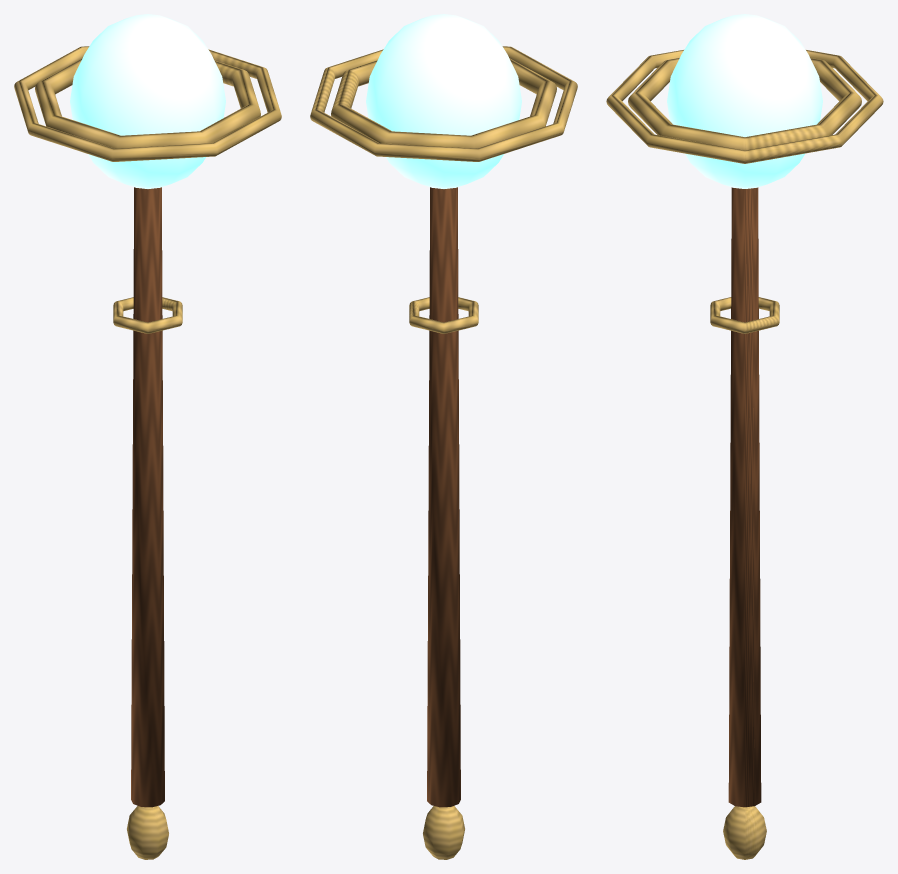
Rendered from weapon_staff.glb.
The picture shows the model from 3 angles, left to right: view 1: azimuth 30°, elevation 25°; view 2: azimuth 150°, elevation 25°; view 3: azimuth 270°, elevation 25°; orthographic projection.
Parts seen in each view (by area): view 1: StaffMesh; view 2: StaffMesh; view 3: StaffMesh.
Part boxes in pixels (x1=…): StaffMesh: x1=14, y1=14, x2=281, y2=859; StaffMesh: x1=310, y1=14, x2=577, y2=859; StaffMesh: x1=606, y1=14, x2=883, y2=859.
Size of the model in its own units: 0.568 by 1.9 by 0.568.
Materials: 3 (2 with a texture image).
